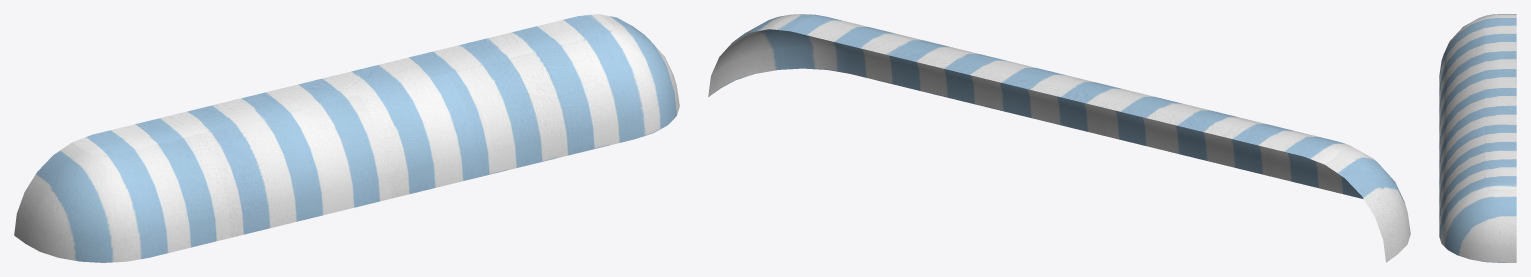
Rendered from umbrella_2.glb.
3 views of the same model, side by side, from view 1: azimuth 30°, elevation 25°; view 2: azimuth 150°, elevation 25°; view 3: azimuth 270°, elevation 25° (orthographic). The views are drawn at different scales.
Visible parts, largest first — view 1: umbrella_2; view 2: umbrella_2; view 3: umbrella_2.
Boxes of the visible parts, box(x1,y1,x2,y2) form: umbrella_2: box(14, 14, 679, 262); umbrella_2: box(708, 14, 1410, 262); umbrella_2: box(1439, 14, 1516, 262).
Bounding box in the file's own units: 5.83 × 0.7093 × 0.8897.
Materials: 1 (1 with a texture image).
